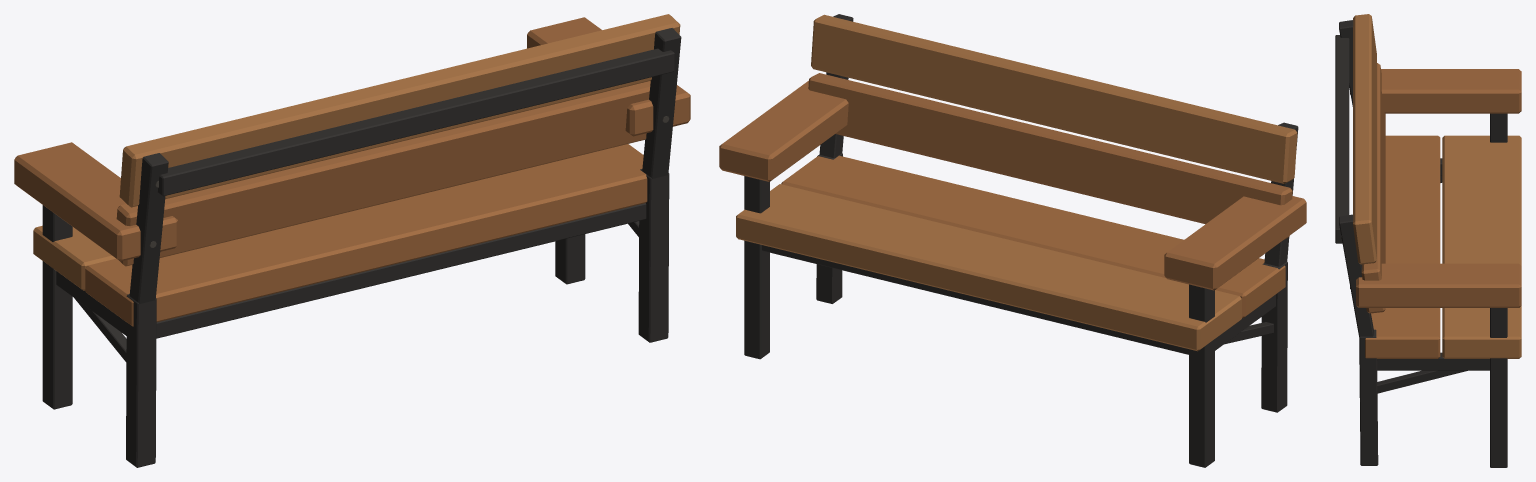
File: seat_bench_v2.glb
3 views of the same model, side by side, from view 1: azimuth 30°, elevation 25°; view 2: azimuth 150°, elevation 25°; view 3: azimuth 270°, elevation 25° (orthographic). The views are drawn at different scales.
Visible parts, largest first — view 1: body; view 2: body; view 3: body.
Part boxes in pixels (<box>): body: <box>14,14,690,467</box>; body: <box>719,14,1306,467</box>; body: <box>1335,14,1521,467</box>.
Size of the model in its own units: 1.6 by 0.8586 by 0.5795.
